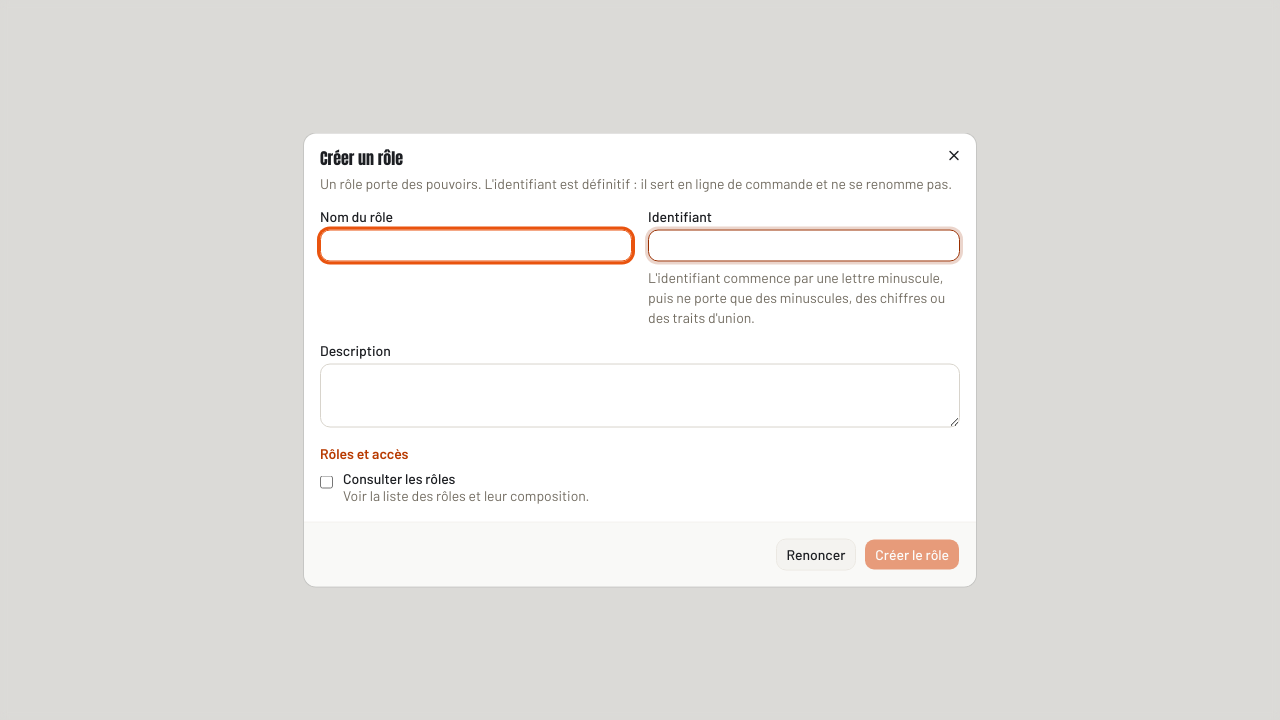
Test: CreateRoleDialog › dérive l'identifiant du nom, sans accent ni espace
Type "Bénévole du club" into the field labelled "Nom du rôle" at (476, 246), box [320,230,632,262]
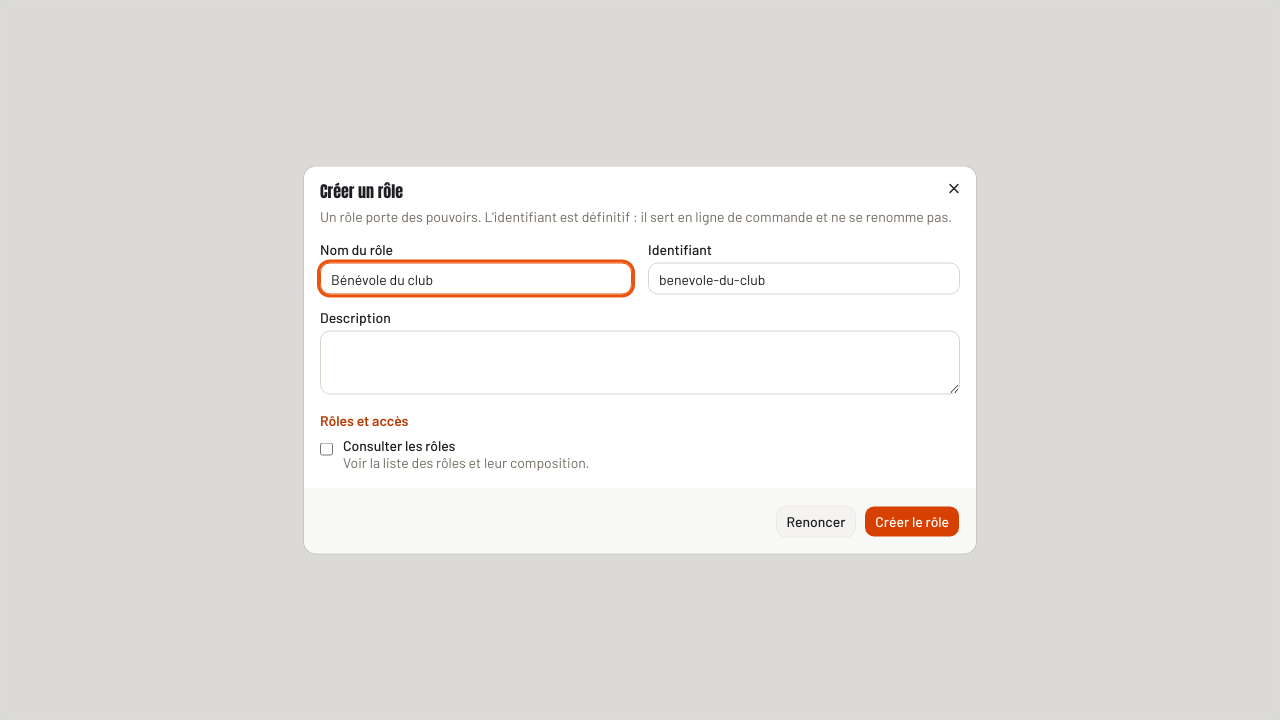
Check: the field labelled "Identifiant" holds "benevole-du-club", box [648,262,960,294]
